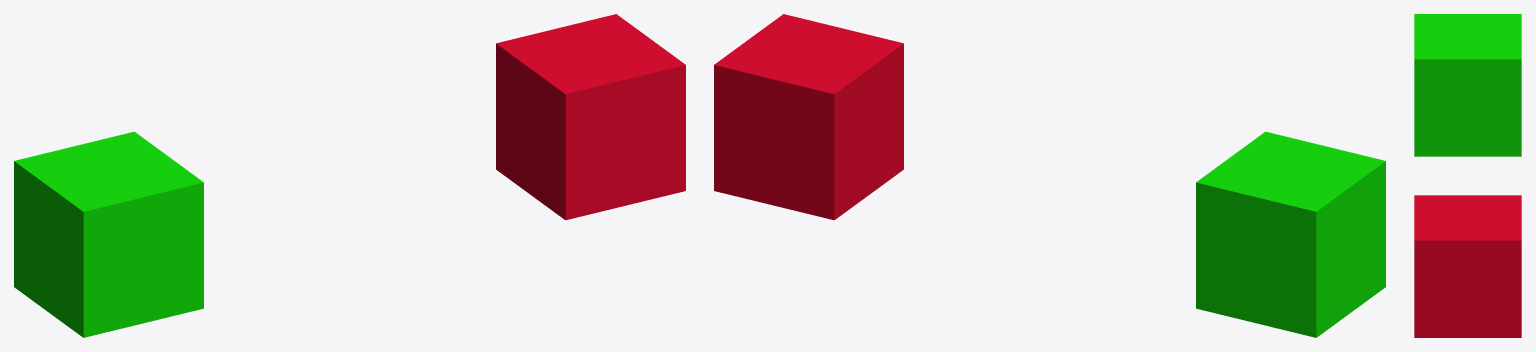
Rendered from FrustumCullingTest.fbx.
3 views of the same model, side by side, from view 1: azimuth 30°, elevation 25°; view 2: azimuth 150°, elevation 25°; view 3: azimuth 270°, elevation 25° (orthographic). The views are drawn at different scales.
Parts seen in each view (by area): view 1: Green, Red; view 2: Green, Red; view 3: Green, Red.
Boxes of the visible parts, bbox=[...] form: Green: bbox=[14, 131, 203, 337]; Red: bbox=[496, 14, 685, 220]; Green: bbox=[1196, 131, 1385, 337]; Red: bbox=[714, 14, 903, 220]; Green: bbox=[1414, 14, 1521, 156]; Red: bbox=[1414, 195, 1521, 337].
Size of the model in its own units: 10 by 2 by 2.
